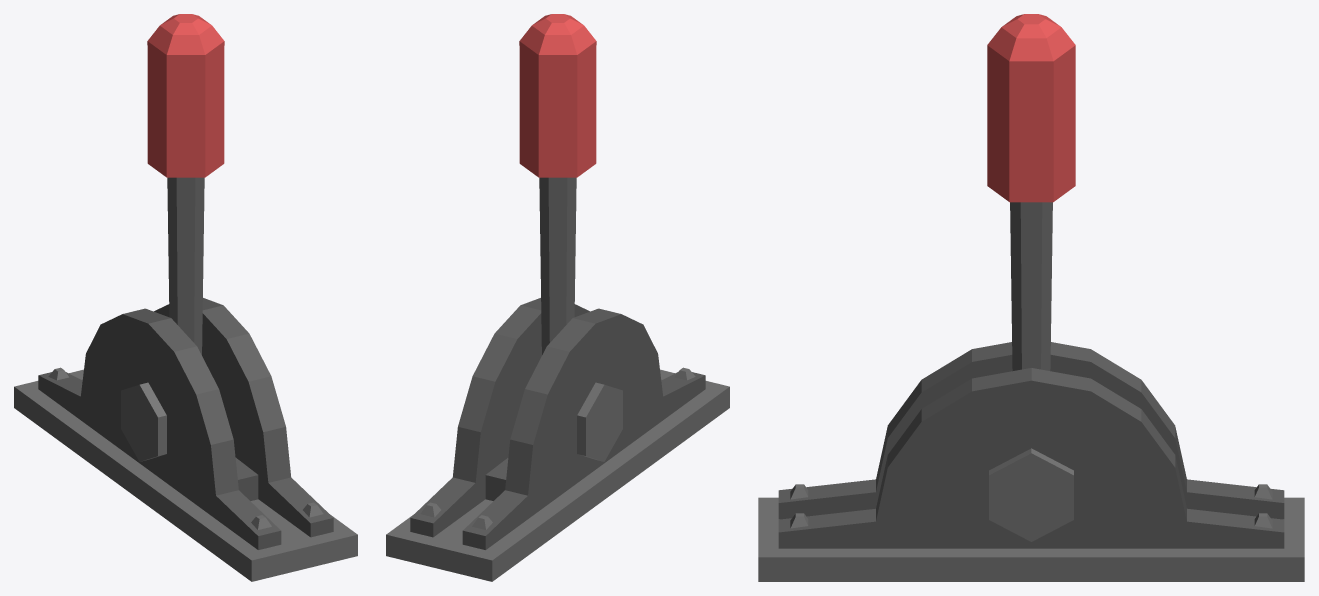
Rendered from Lever.fbx.
3 views of the same model, side by side, from view 1: azimuth 30°, elevation 25°; view 2: azimuth 150°, elevation 25°; view 3: azimuth 270°, elevation 25° (orthographic). The views are drawn at different scales.
Parts seen in each view (by area): view 1: Lever_Base, Lever; view 2: Lever_Base, Lever; view 3: Lever_Base, Lever.
Part boxes in pixels (bbox=[...]): Lever_Base: bbox=[14, 298, 357, 581]; Lever: bbox=[147, 14, 224, 354]; Lever_Base: bbox=[386, 298, 729, 581]; Lever: bbox=[519, 14, 596, 354]; Lever_Base: bbox=[758, 342, 1304, 581]; Lever: bbox=[987, 14, 1075, 370].
Size of the model in its own units: 90.58 by 378 by 351.
